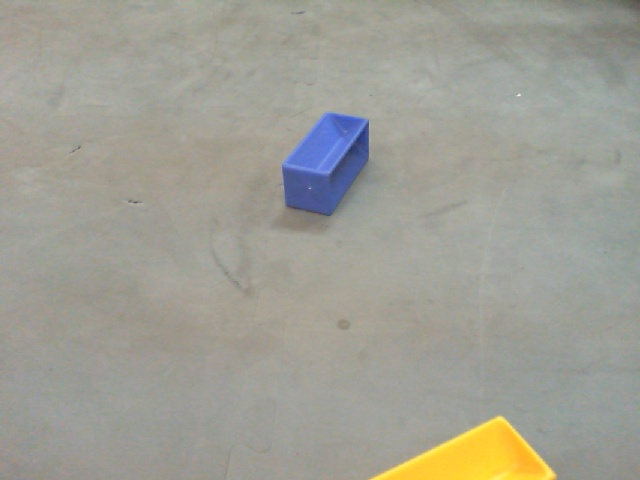BlueSample: (281, 111, 372, 215)
YellowSample: (351, 413, 562, 480)
